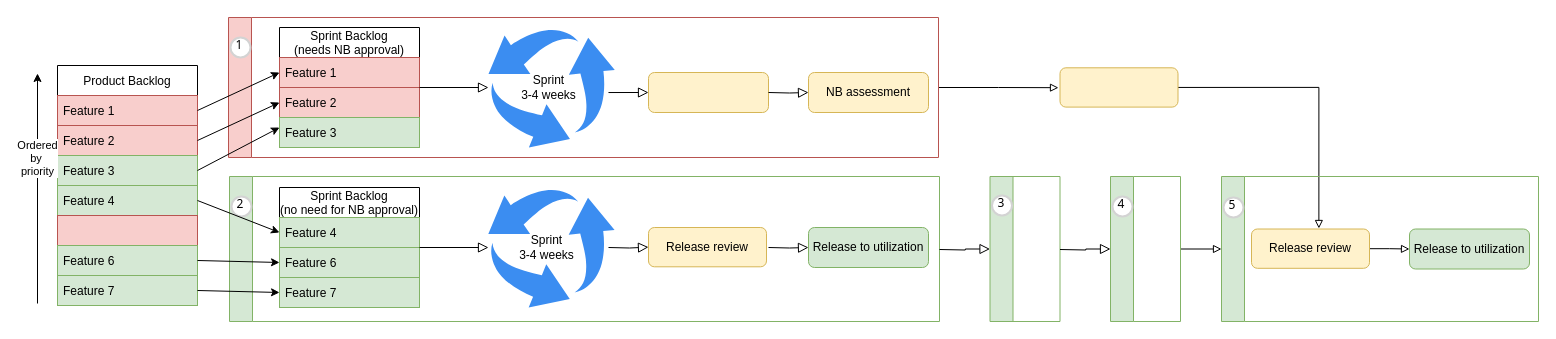
Some shapes in this 1556 by 339 pixel diagram are drawn without their labels. Here are the shapes that lost their labels. From the top down, the centre of each, then its label:
(708,92): Ready to NB assessment
(1118,87): Merge to main
(127,230): Feature 5
